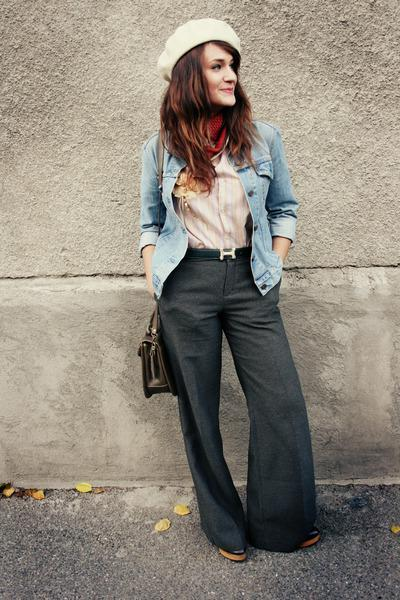jacket: (135, 118, 298, 300)
short sleeve shirt: (170, 140, 256, 256)
trousers: (150, 247, 323, 545)
